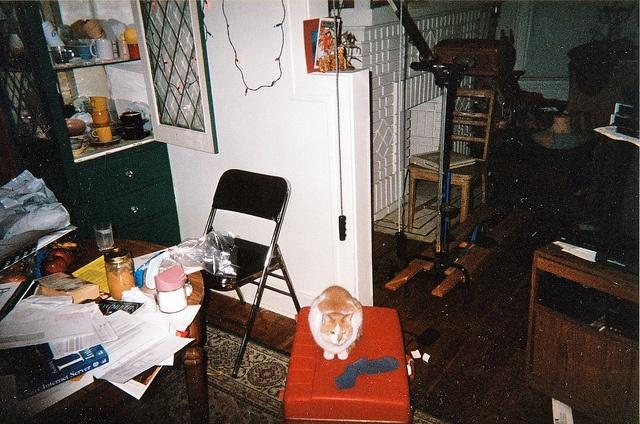Kursi: (199, 168, 291, 376), (405, 85, 495, 236)
